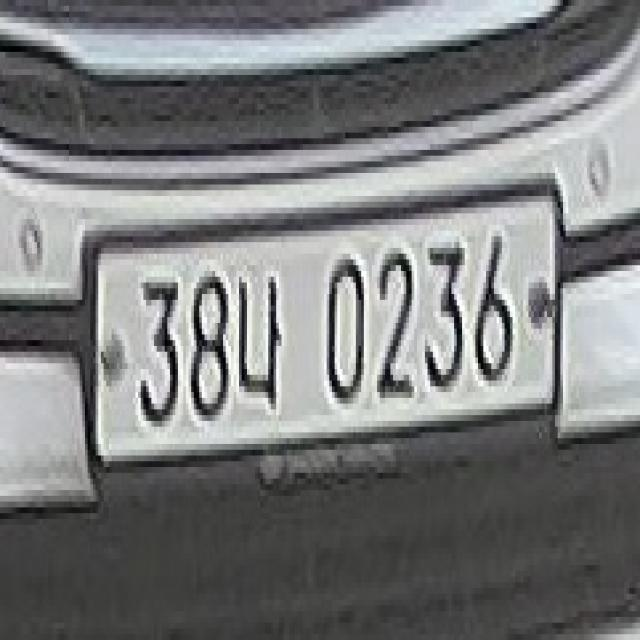0: (324, 248, 369, 404)
2: (374, 248, 417, 398)
3: (132, 271, 180, 427), (425, 236, 465, 392)
6: (468, 219, 516, 386)
8: (192, 271, 228, 427)
license_plate: (85, 179, 558, 461)
na: (236, 266, 284, 410)
